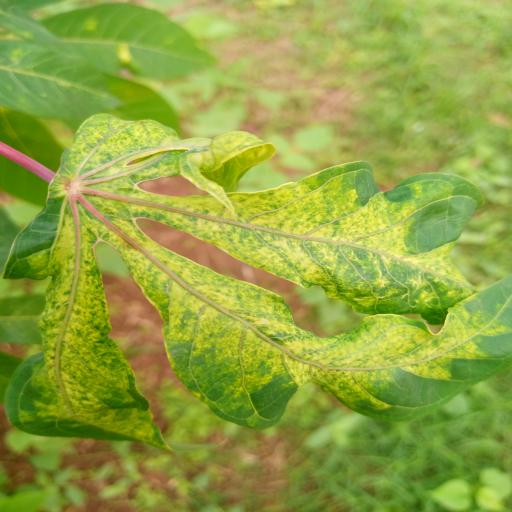Cassava_Mosaic: (5, 108, 512, 448)
